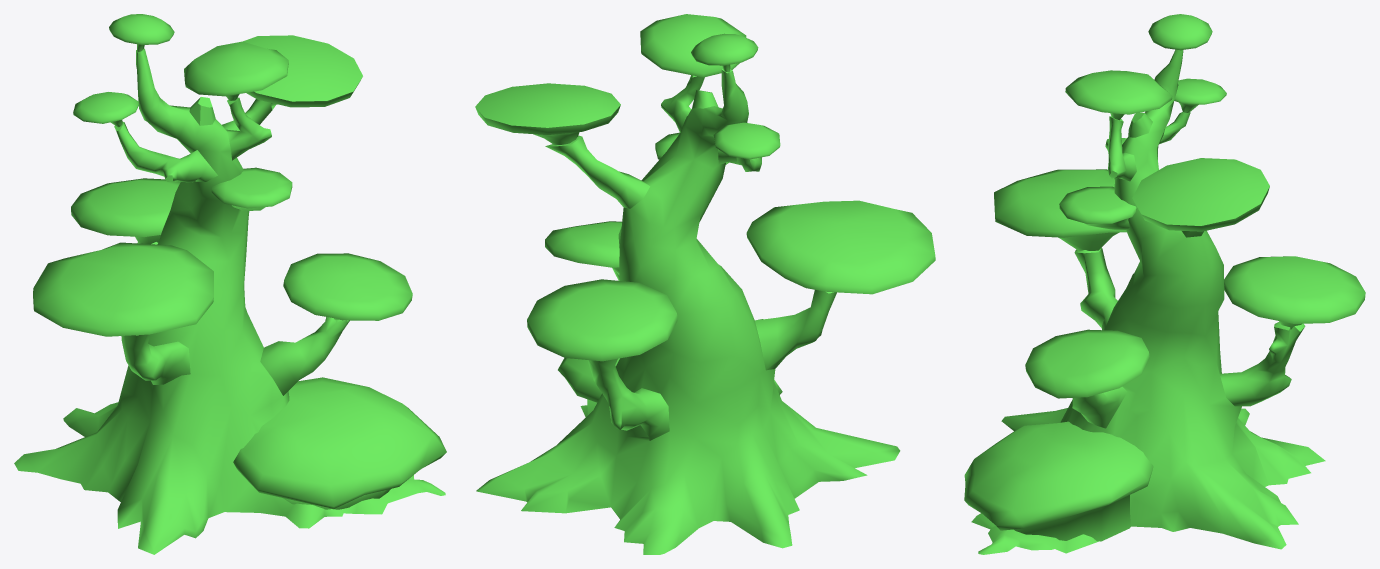
The model's file is plant_4.fbx.
The picture shows the model from 3 angles, left to right: view 1: azimuth 30°, elevation 25°; view 2: azimuth 150°, elevation 25°; view 3: azimuth 270°, elevation 25°; orthographic projection. The views are drawn at different scales.
Parts seen in each view (by area): view 1: plant_4; view 2: plant_4; view 3: plant_4.
Boxes of the visible parts, bbox=[...] form: plant_4: bbox=[14, 14, 446, 554]; plant_4: bbox=[475, 14, 935, 554]; plant_4: bbox=[964, 14, 1365, 554].
Bounding box in the file's own units: 226 × 264 × 219.
